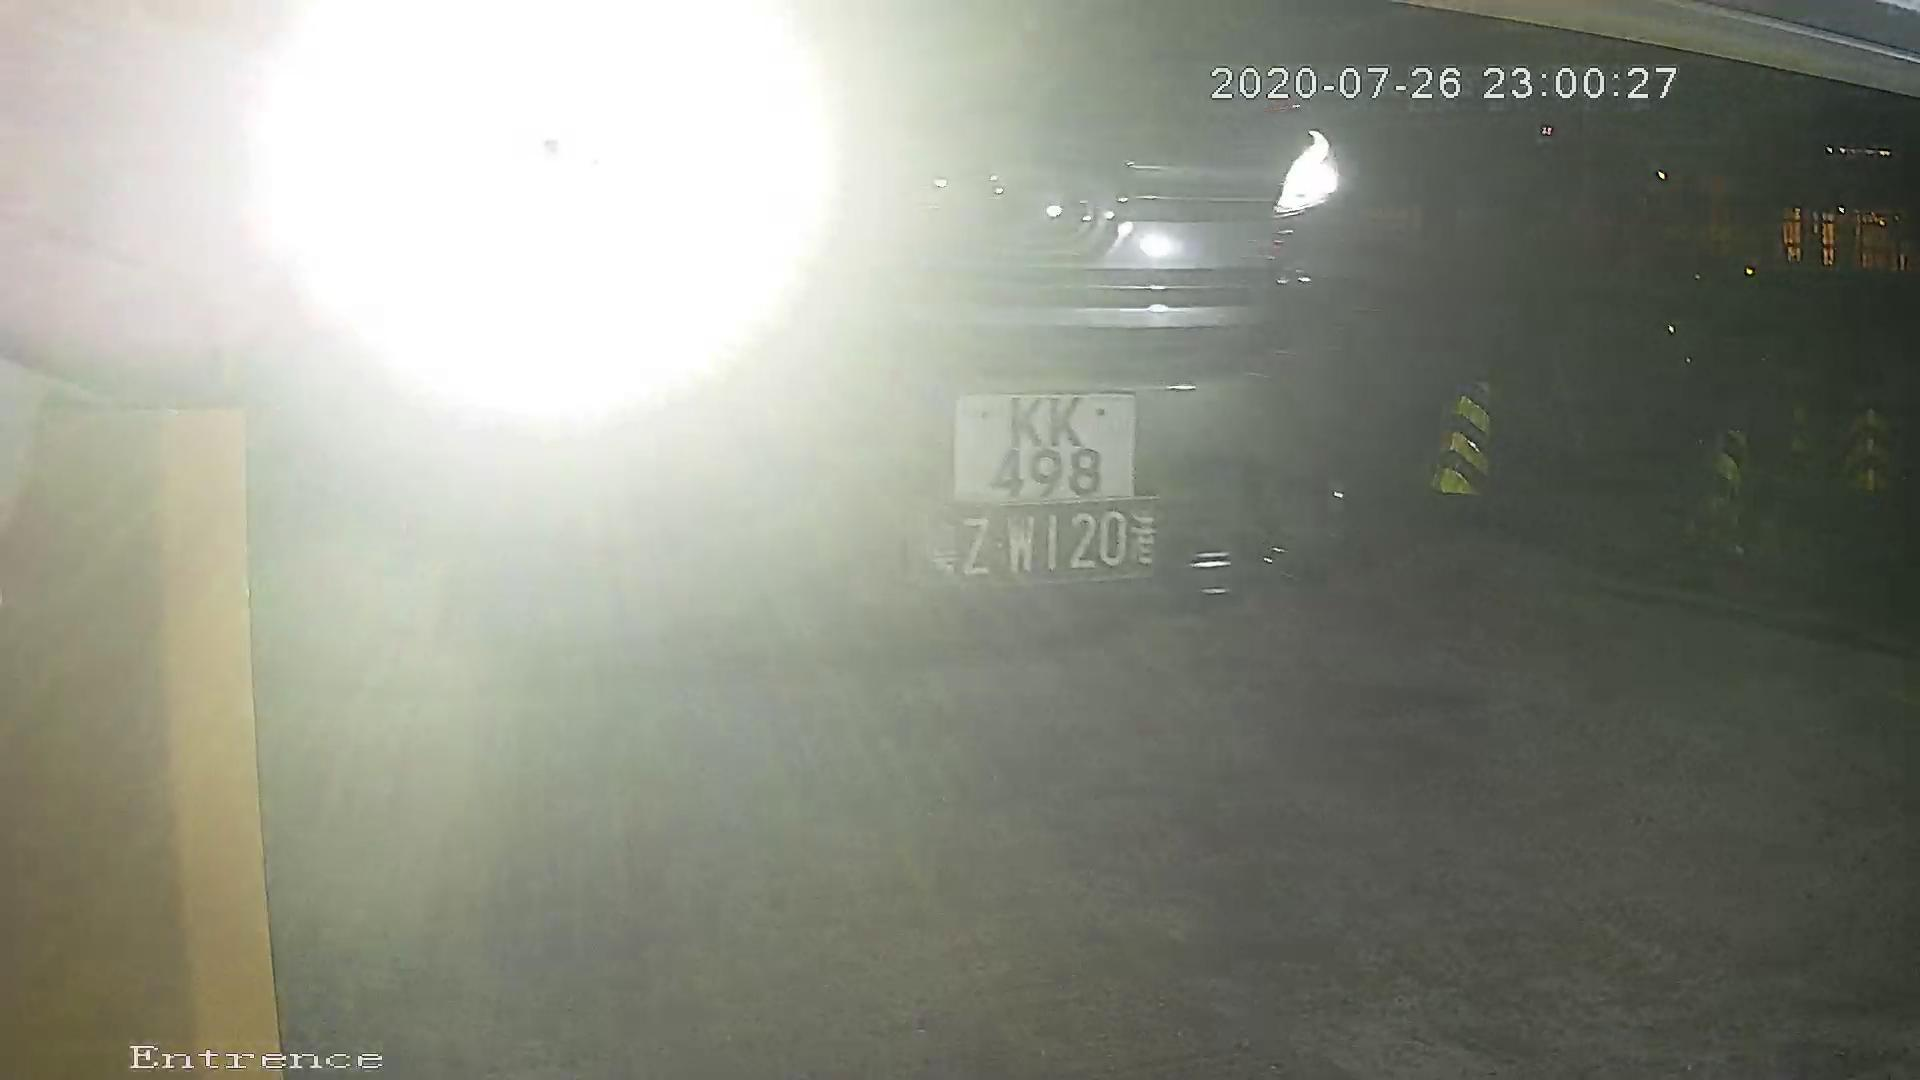Car: (9, 34, 1715, 854)
License Plate: (918, 352, 1183, 594)
